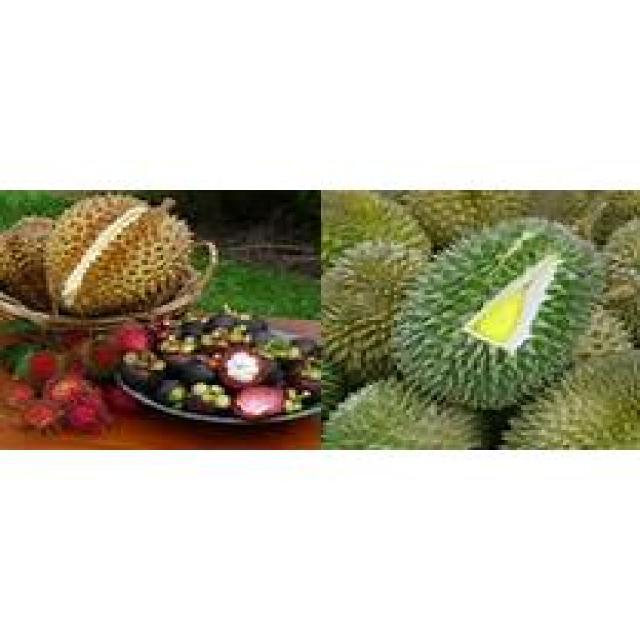fruit: (298, 195, 452, 407)
